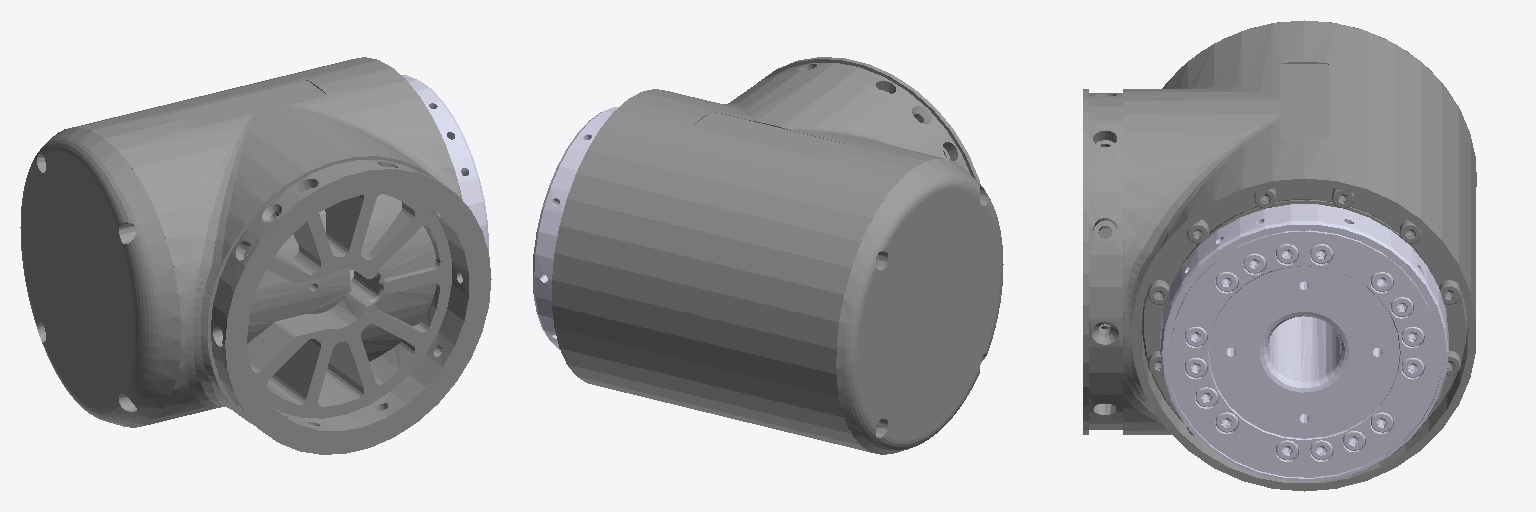
URDF robot description (80T简化版):
<?xml version="1.0" encoding="utf-8"?>
<!-- This URDF was automatically created by SolidWorks to URDF Exporter! Originally created by [author] ([email redacted]) 
     Commit Version: 1.6.0-4-g7f85cfe  Build Version: 1.6.7995.38578
     For more information, please see http://wiki.ros.org/sw_urdf_exporter -->
<robot
  name="80T简化版">
  <link
    name="base_link">
    <inertial>
      <origin
        xyz="0.030325 -0.0055596 1.8377E-05"
        rpy="0 0 0" />
      <mass
        value="0.28169" />
      <inertia
        ixx="0.00040994"
        ixy="1.2137E-05"
        ixz="1.1905E-07"
        iyy="0.0002843"
        iyz="-1.1113E-07"
        izz="0.00029965" />
    </inertial>
    <visual>
      <origin
        xyz="0 0 0"
        rpy="0 0 0" />
      <geometry>
        <mesh
          filename="package://erob_description/meshes/erob80t/base_link.STL" />
      </geometry>
      <material
        name="">
        <color
          rgba="0.627 0.627 0.627 1" />
      </material>
    </visual>
    <collision>
      <origin
        xyz="0 0 0"
        rpy="0 0 0" />
      <geometry>
        <mesh
          filename="package://erob_description/meshes/erob80t/base_link.STL" />
      </geometry>
    </collision>
  </link>
  <link
    name="revolute_link">
    <inertial>
      <origin
        xyz="-0.011692 3.7937E-05 -6.7632E-07"
        rpy="0 0 0" />
      <mass
        value="0.045307" />
      <inertia
        ixx="2.6118E-05"
        ixy="-1.3922E-08"
        ixz="4.2254E-10"
        iyy="2.5486E-05"
        iyz="5.1041E-11"
        izz="2.5515E-05" />
    </inertial>
    <visual>
      <origin
        xyz="0 0 0"
        rpy="0 0 0" />
      <geometry>
        <mesh
          filename="package://erob_description/meshes/erob80t/revolute_link.STL" />
      </geometry>
      <material
        name="">
        <color
          rgba="0.863 0.863 0.941 1" />
      </material>
    </visual>
    <collision>
      <origin
        xyz="0 0 0"
        rpy="0 0 0" />
      <geometry>
        <mesh
          filename="package://erob_description/meshes/erob80t/revolute_link.STL" />
      </geometry>
    </collision>
  </link>
  <joint
    name="revolute_joint"
    type="revolute">
    <origin
      xyz="0.0829 0 0"
      rpy="0 0 0" />
    <parent
      link="base_link" />
    <child
      link="revolute_link" />
    <axis
      xyz="-1 0 0" />
    <limit
      lower="-3.14"
      upper="3.14"
      effort="47"
      velocity="1.57" />
  </joint>
</robot>

--- What the picture shows (computed from the rendered views, not written in the file) ---
Views: 3 orthographic renders of the robot side by side, from view 1: azimuth 30°, elevation 25°; view 2: azimuth 150°, elevation 25°; view 3: azimuth 270°, elevation 25°.
Robot: 80T简化版 — 2 links, 1 joints (1 revolute); root link base_link; default pose: every joint at zero.
Links seen in each view (by area): view 1: base_link, revolute_link; view 2: base_link, revolute_link; view 3: base_link, revolute_link.
Link boxes in pixels (<box>): base_link: <box>20,57,491,454</box>; revolute_link: <box>401,75,488,251</box>; base_link: <box>552,57,1003,454</box>; revolute_link: <box>533,107,618,349</box>; base_link: <box>1083,20,1476,491</box>; revolute_link: <box>1160,204,1448,481</box>.
Bounding box of the posed robot: 0.1118 × 0.097 × 0.085 m (x, y, z).
Meshes: 2 distinct files referenced, 2 mesh visuals loaded (2 binary STL).
